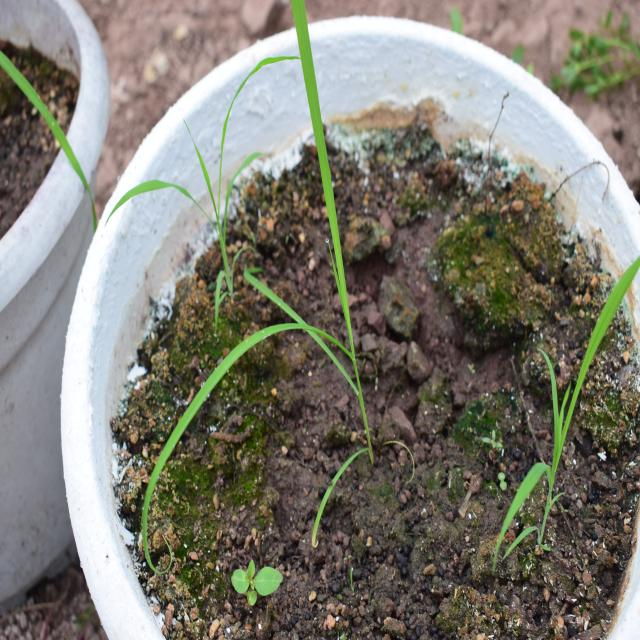barnyard_grass: (114, 24, 399, 524), (490, 284, 636, 577)
